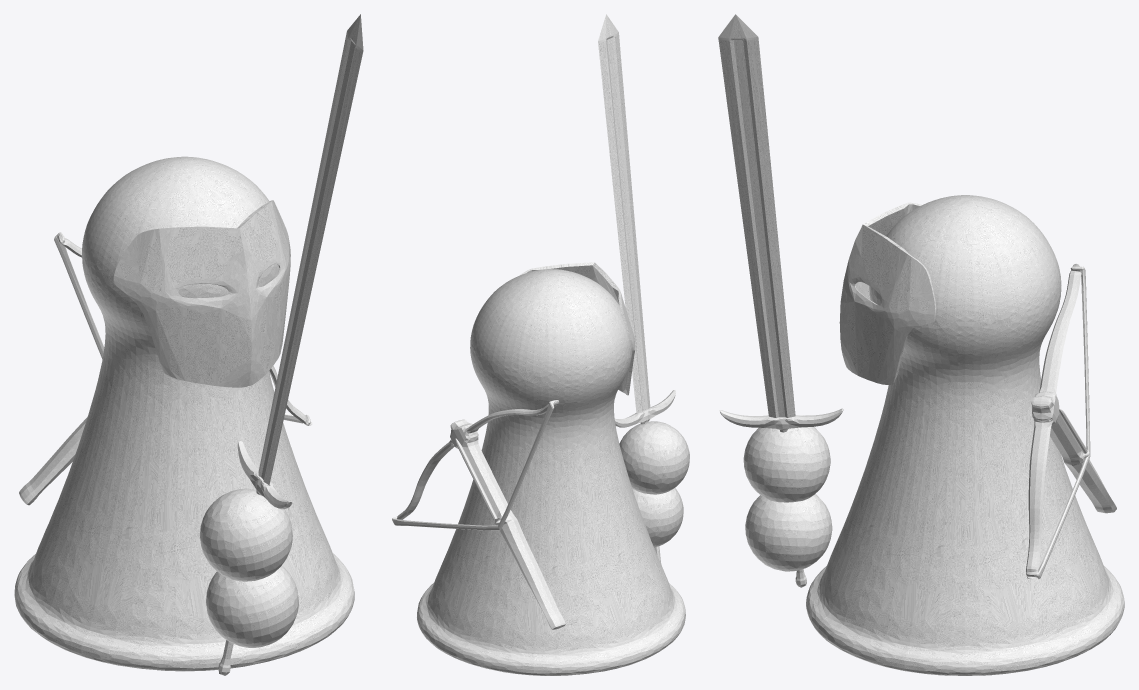
Rendered from UnitKnight.obj.
The picture shows the model from 3 angles, left to right: view 1: azimuth 30°, elevation 25°; view 2: azimuth 150°, elevation 25°; view 3: azimuth 270°, elevation 25°; orthographic projection. The views are drawn at different scales.
Visible parts, largest first — view 1: Body, Helmet, Sword, Hand1, Hand2_Hand1.001, Crossbow; view 2: Body, Sword, Crossbow, Hand1, Hand2_Hand1.001, Helmet; view 3: Body, Sword, Helmet, Crossbow, Hand1, Hand2_Hand1.001.
Boxes of the visible parts, x1=… form: Body: x1=14, y1=156, x2=354, y2=671; Helmet: x1=113, y1=200, x2=290, y2=387; Sword: x1=218, y1=14, x2=363, y2=675; Hand1: x1=199, y1=488, x2=292, y2=581; Hand2_Hand1.001: x1=206, y1=565, x2=298, y2=647; Crossbow: x1=19, y1=232, x2=312, y2=505; Body: x1=417, y1=269, x2=685, y2=675; Sword: x1=598, y1=14, x2=675, y2=564; Crossbow: x1=392, y1=400, x2=565, y2=629; Hand1: x1=619, y1=421, x2=689, y2=494; Hand2_Hand1.001: x1=632, y1=488, x2=683, y2=547; Helmet: x1=519, y1=262, x2=635, y2=395; Body: x1=806, y1=195, x2=1124, y2=675; Sword: x1=718, y1=14, x2=843, y2=587; Helmet: x1=839, y1=202, x2=936, y2=384; Crossbow: x1=1026, y1=263, x2=1116, y2=579; Hand1: x1=743, y1=427, x2=830, y2=502; Hand2_Hand1.001: x1=745, y1=494, x2=832, y2=571.
Bounding box in the file's own units: 0.6121 × 1.25 × 0.7428.
1 material, 1 textured.
